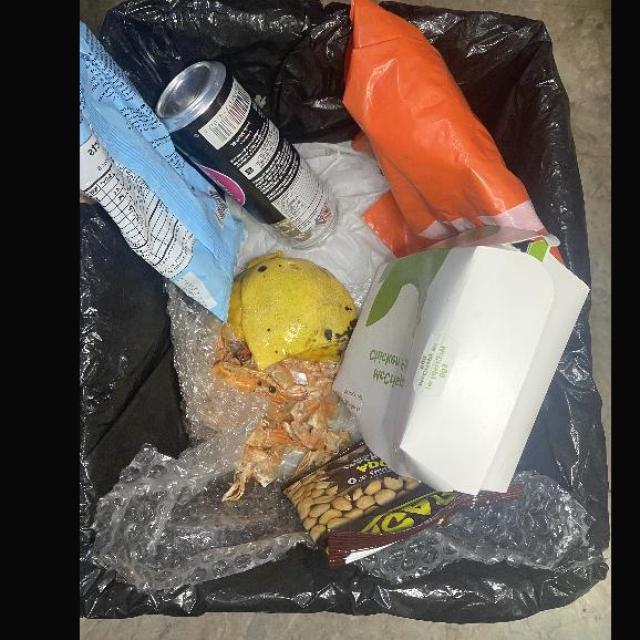bao_bi_thuc_pham: (80, 20, 246, 324), (281, 440, 524, 569)
carton: (332, 226, 589, 497)
nhom: (155, 61, 338, 250)
thuc_an_thua: (211, 323, 350, 502)
tui_ni_long: (342, 0, 546, 259)
vo_trai_cay: (227, 250, 358, 371)
